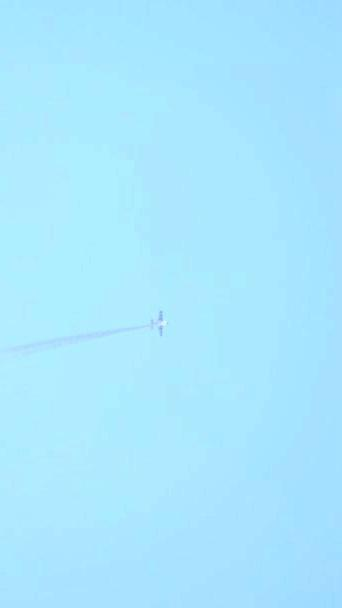Plane: (146, 301, 174, 348)
